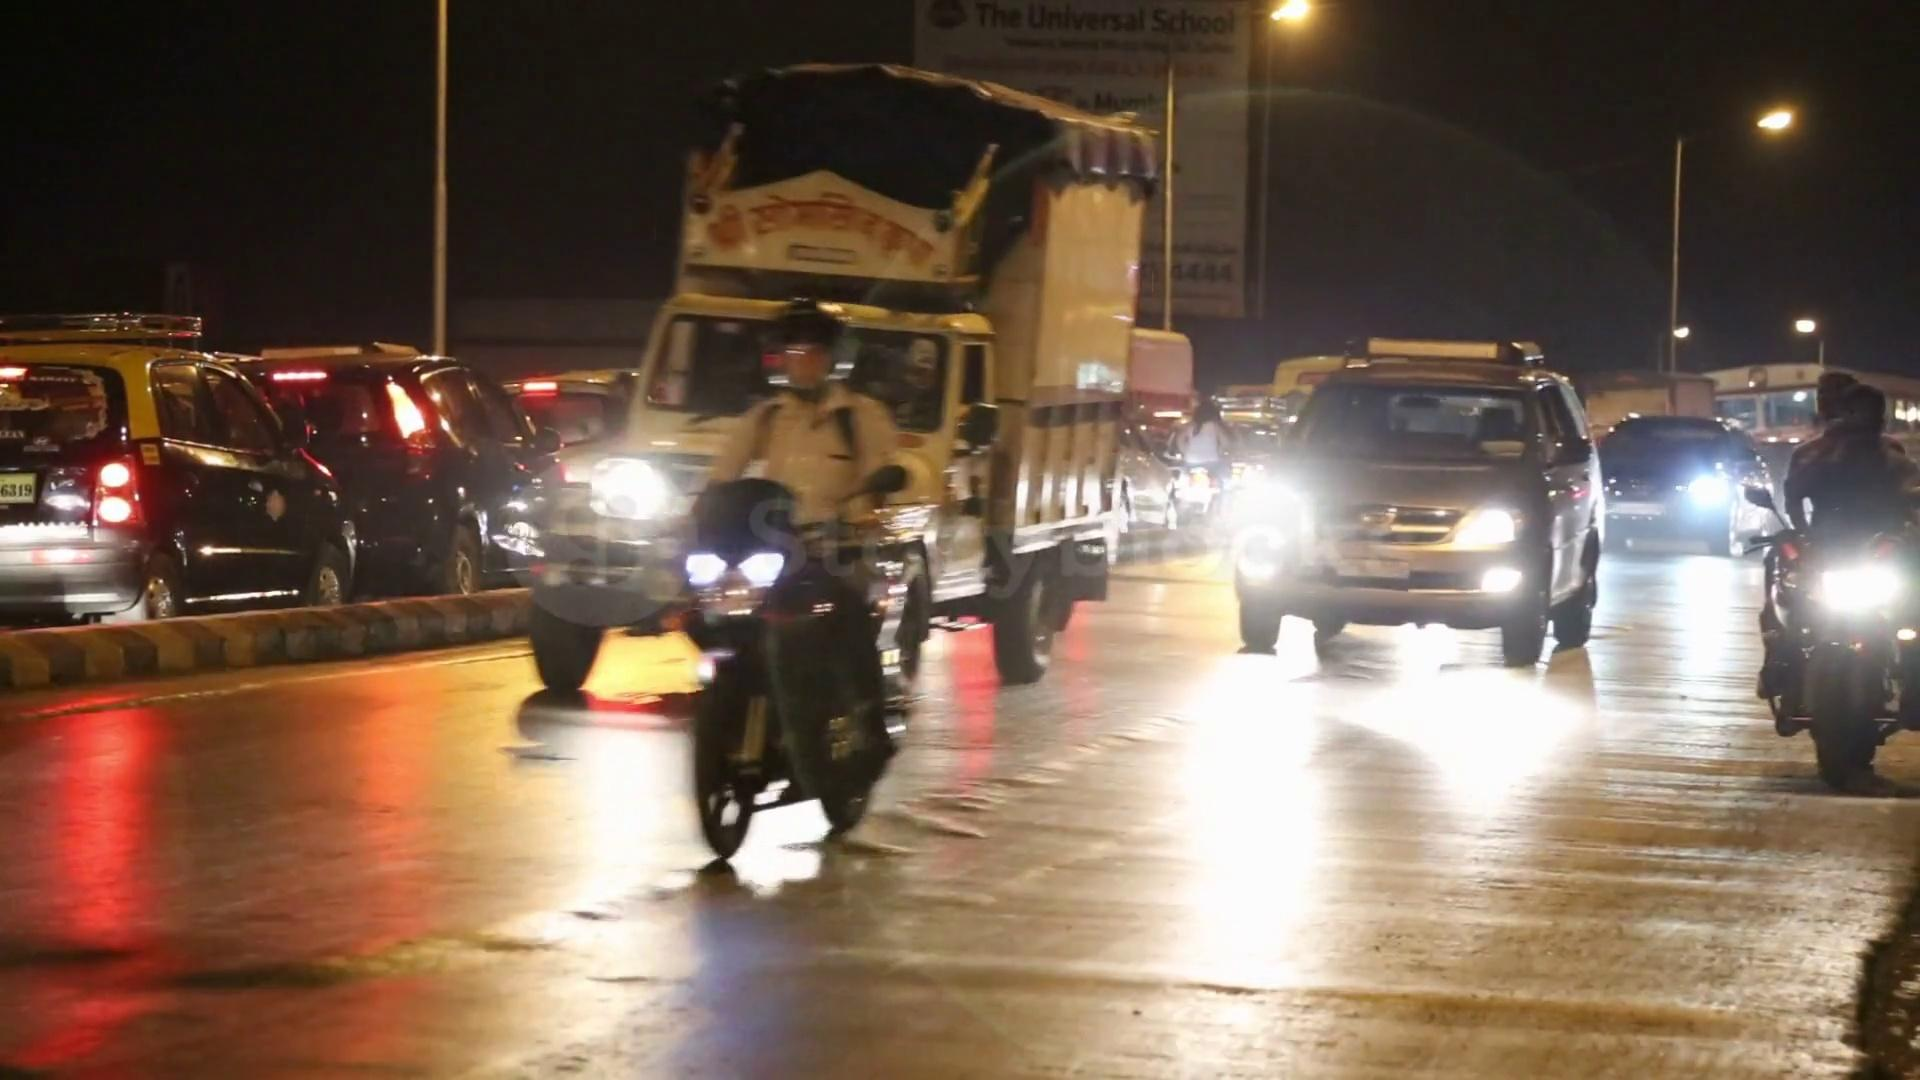rider: (688, 303, 913, 844), (1776, 363, 1916, 781)
with_helmate: (764, 310, 863, 406)
